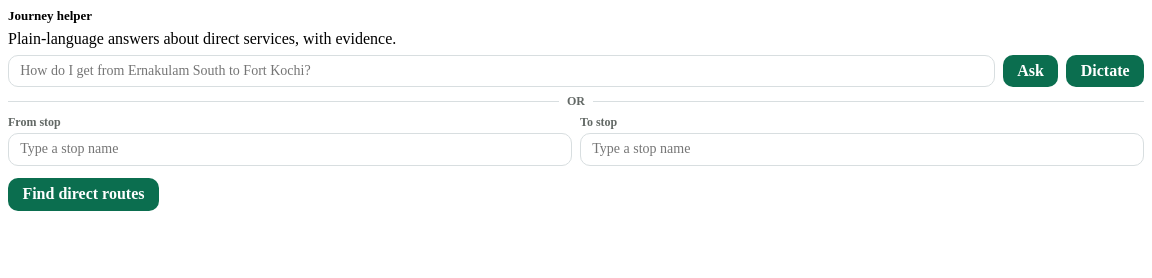
JourneyPanel › renders a plain refusal with no links
This screenshot has width=1152, height=278.
Type "How do I get somewhere unknown?" into the field named "your journey question" at (501, 71), box [8,55,995,87]
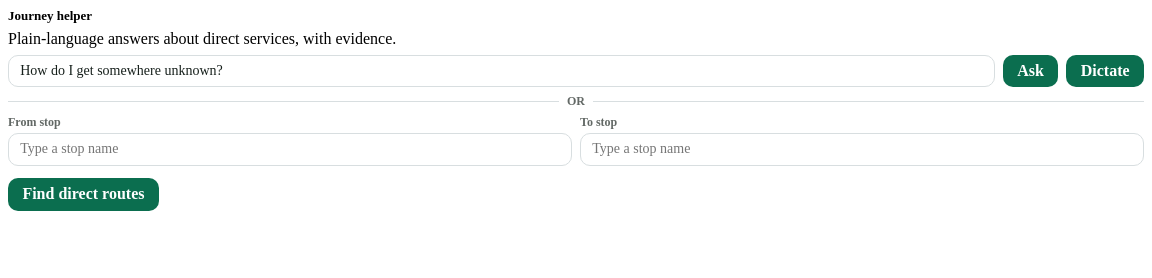
Click the button "Ask" at (1031, 71), box [1003,55,1058,87]
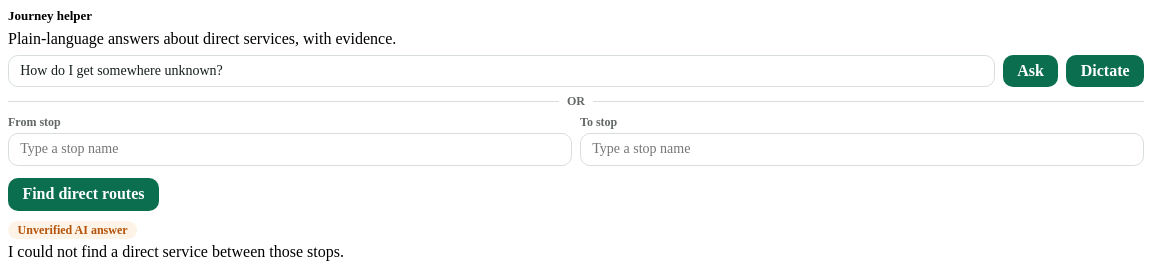
expect the text "I could not find a direct service between those stops." is shown: met, box [8,243,344,260]
